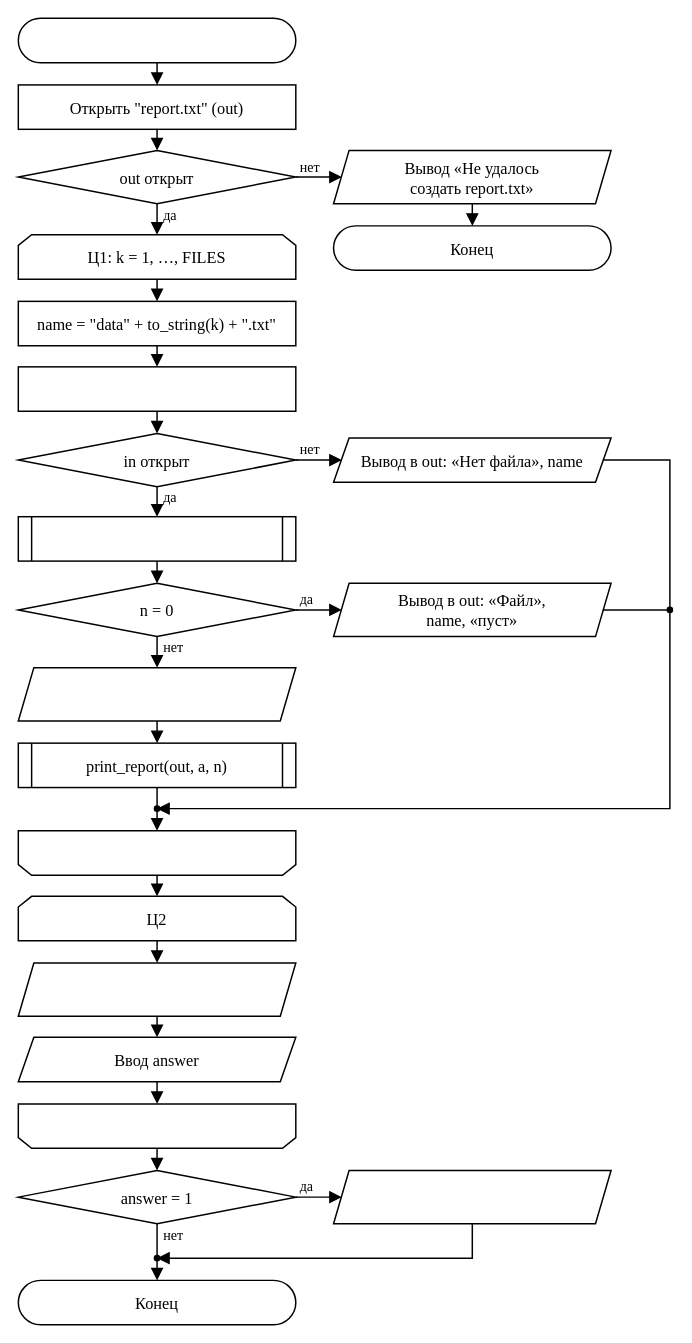
Some shapes in this 692 by 1343 pixel diagram are drawn without their labels. Here are the shapes that lost their labels. From the top down, the box of each, then its label:
(17, 17, 296, 63): Начало
(17, 366, 296, 411): Открыть name (in)
(17, 515, 296, 561): n = read_numbers(in, a)
(17, 666, 296, 721): Вывод в out: «Файл», name, «:», n, «чисел»
(17, 830, 296, 875): Ц1
(17, 962, 296, 1016): Вывод «Показать отчёт? (1 — да, 0 — нет):»
(17, 1103, 296, 1148): Ц2: пока answer ≠ 0 и answer ≠ 1
(332, 1169, 611, 1224): Вывод «Отчёт записан в report.txt»
